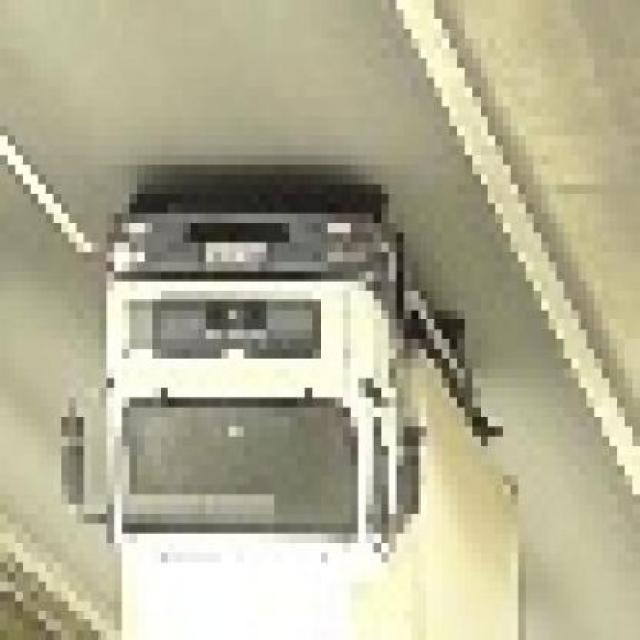truck: (54, 204, 519, 640)
